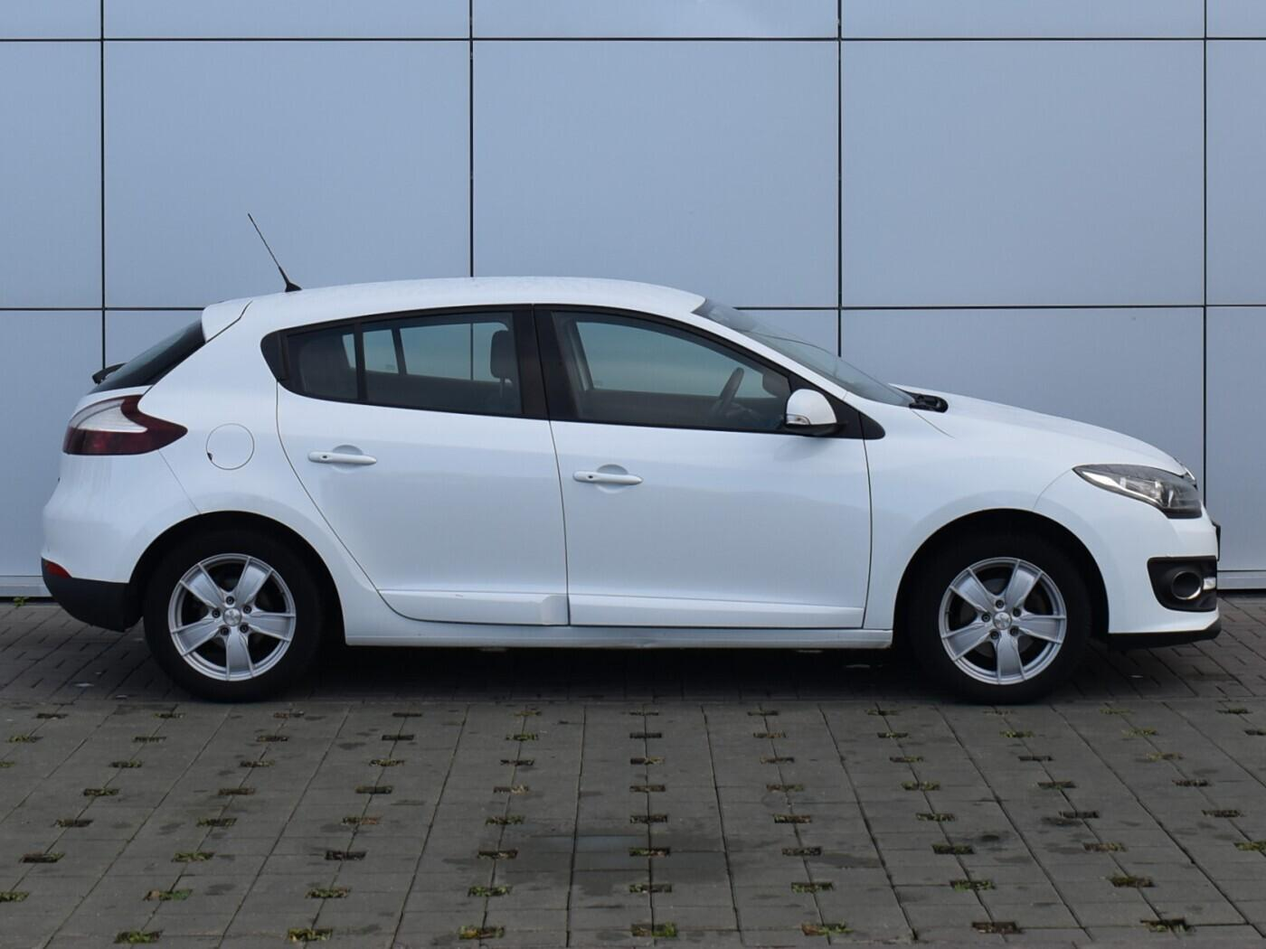Megane_2014-2016: (36, 272, 1226, 722)
